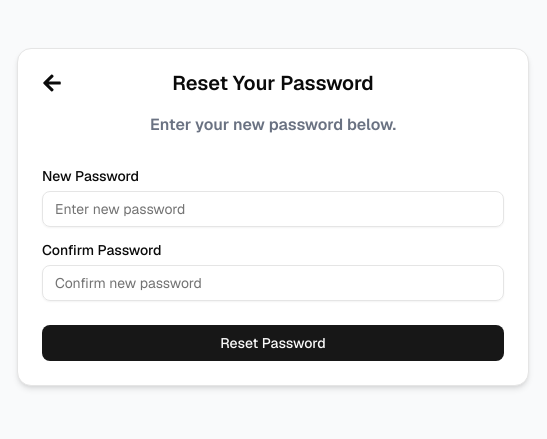
ResetPasswordForm › should show success message and redirect after 1.5s on success
Type "validPassword" into the password field with placeholder "Enter new password". click: point(273, 209)
box: [42,191,504,227]
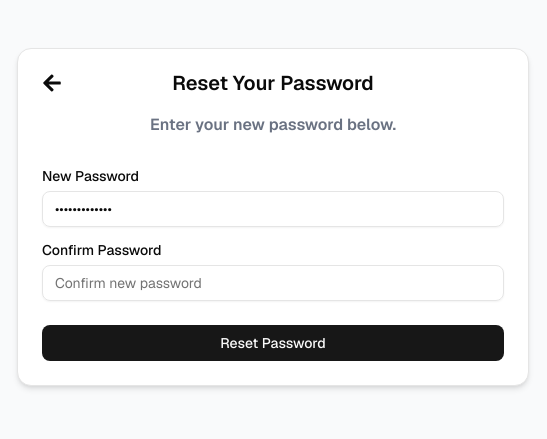
Type "validPassword" into the password field with placeholder "Confirm new password". click: point(273, 283)
box: [42,265,504,301]
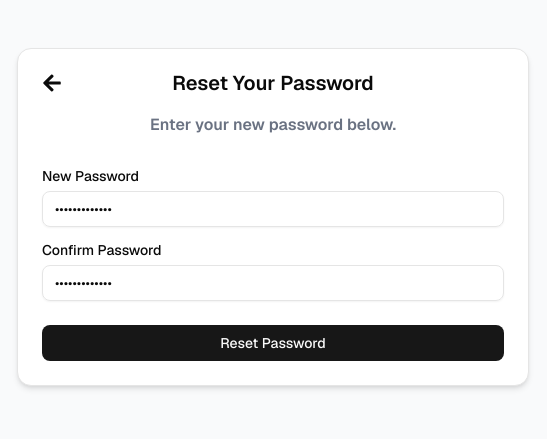
Click the button "Reset Password". click: point(273, 343)
box: [42,325,504,361]
Wait 1500 ms
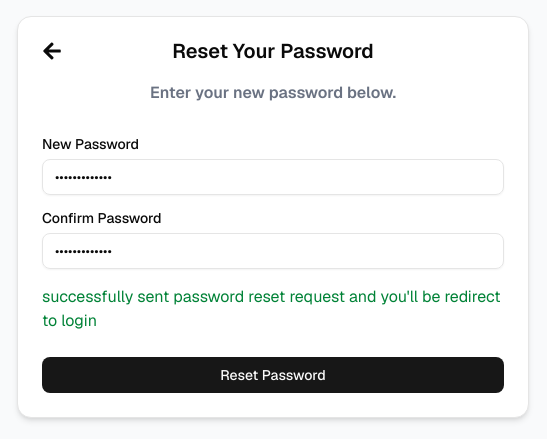
Expected: the text "successfully sent password reset request" is shown, [42,286,501,331]
